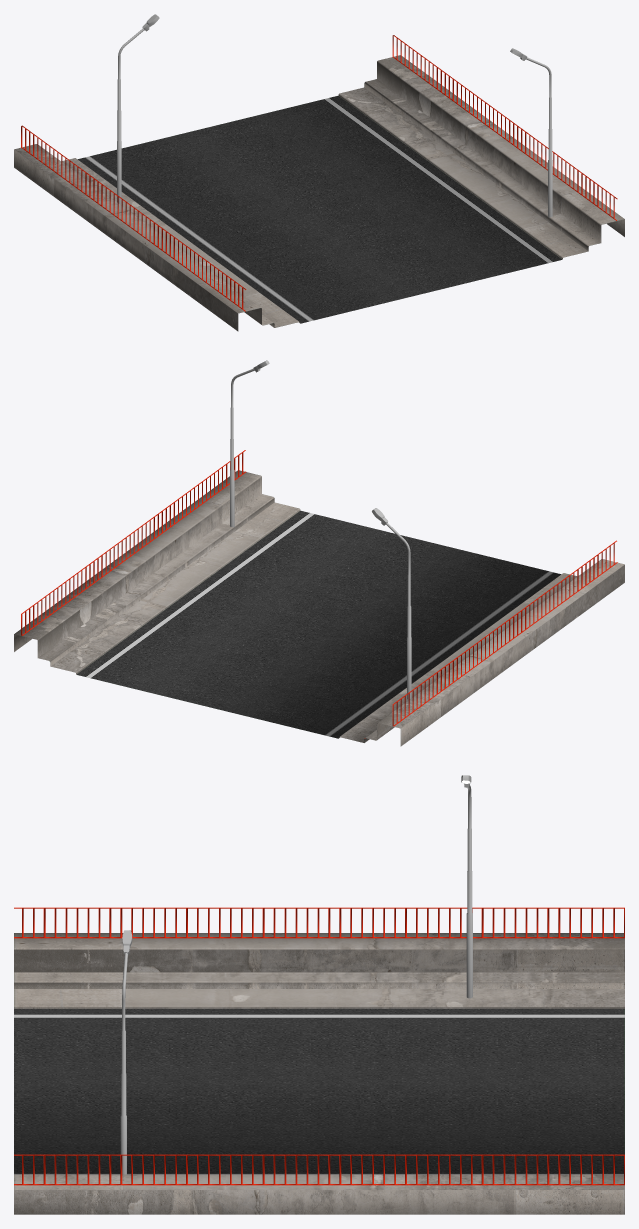
File: most.glb
3 renders of one model, top to bottom at view 1: azimuth 30°, elevation 25°; view 2: azimuth 150°, elevation 25°; view 3: azimuth 270°, elevation 25°, orthographic. The views are drawn at different scales.
Visible parts, largest first — view 1: Plateform, Lights.001, Lights.002; view 2: Plateform, Lights.001, Lights.002; view 3: Plateform, Lights.002, Lights.001.
Part boxes in pixels (<box>): Plateform: <box>14,35,624,331</box>; Lights.001: <box>117,14,159,203</box>; Lights.002: <box>510,48,552,217</box>; Plateform: <box>14,450,624,746</box>; Lights.001: <box>372,508,411,699</box>; Lights.002: <box>230,360,269,527</box>; Plateform: <box>14,907,624,1214</box>; Lights.002: <box>120,930,132,1174</box>; Lights.001: <box>461,775,472,998</box>.
Bounding box in the file's own units: 13.5 × 6.07 × 13.56.
5 materials, 2 textured.
